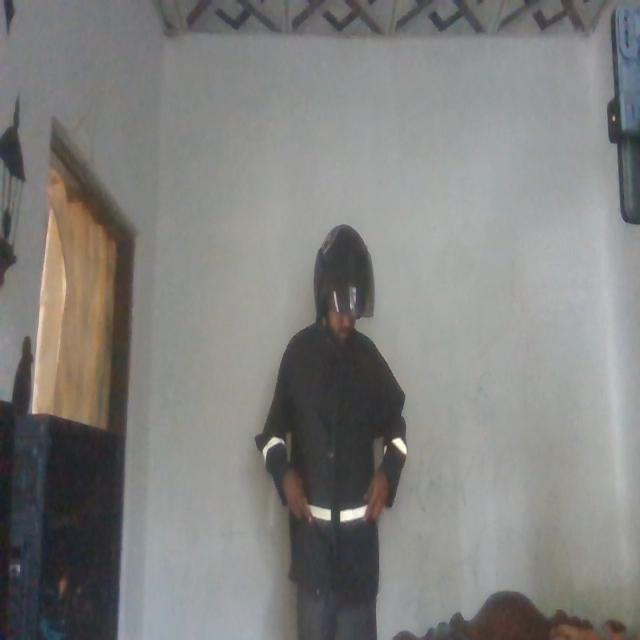Helmet_Wearer: (296, 228, 378, 350)
Jacket_Wearer: (256, 316, 402, 593)
Person: (255, 227, 408, 640)
